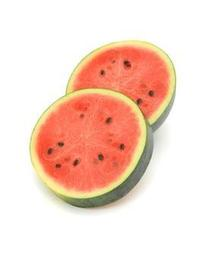watermelon: (29, 38, 178, 211)
